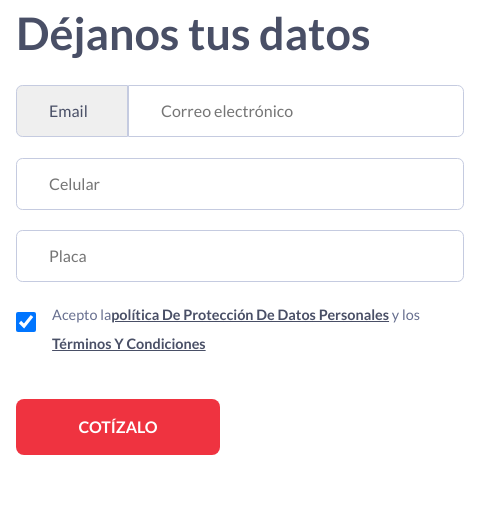
Test: submit with invalid credentials
In the field with placeholder "Correo electrónico": [296, 111] box [128,85,464,137], type "john@doe.com"
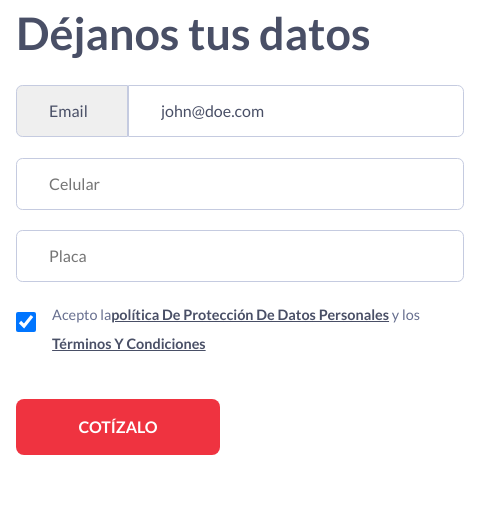
In the field with placeholder "Celular": [240, 184] box [16,158,464,210], type "999222333"
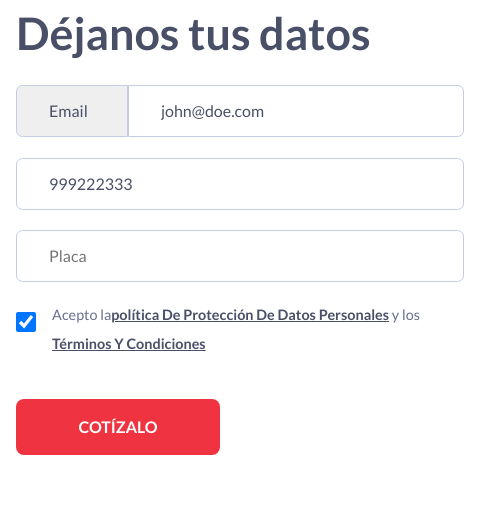
In the field with placeholder "Placa": [240, 256] box [16,230,464,282], type "ABC-123"
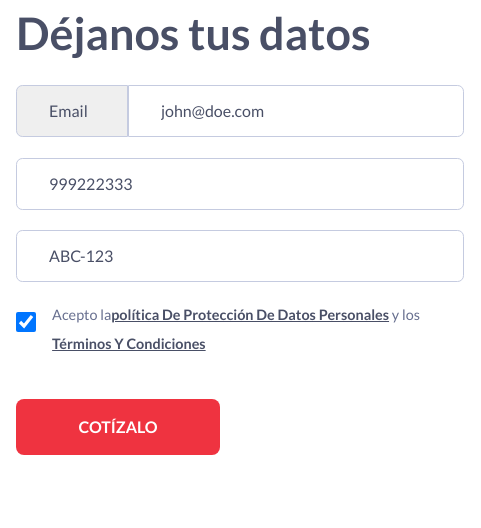
Click the button "Cotízalo": [118, 427] box [16,399,220,456]
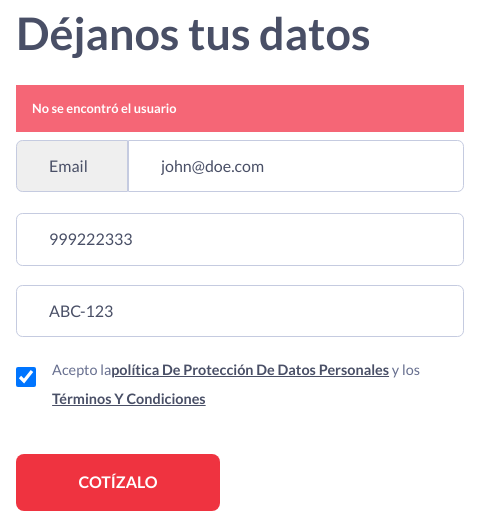
Check: the text "No se encontró el usuario" is shown, box [16,85,464,132]
